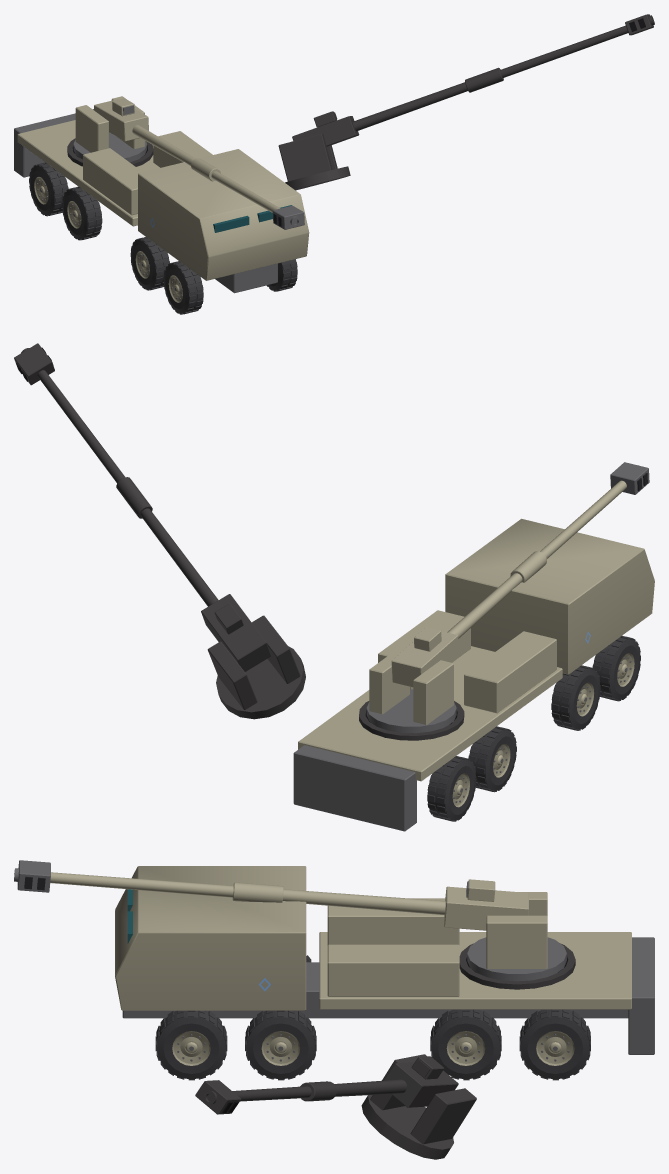
File: wheeledHowitzer__caesar_mkii.glb
3 renders of one model, top to bottom at view 1: azimuth 30°, elevation 25°; view 2: azimuth 150°, elevation 25°; view 3: azimuth 270°, elevation 25°, orthographic. The views are drawn at different scales.
Visible parts, largest first — view 1: Hull_Mesh, Wreck, Gun_Mesh, Turret_Mesh, Wheel_L1_Mesh, Wheel_L3_Mesh, Wheel_L0_Mesh, Wheel_L2_Mesh, Wheel_R3_Mesh; view 2: Hull_Mesh, Wreck, Gun_Mesh, Turret_Mesh, Wheel_L2_Mesh, Wheel_L0_Mesh, Wheel_L1_Mesh, Wheel_L3_Mesh; view 3: Hull_Mesh, Wreck, Gun_Mesh, Turret_Mesh, Wheel_R0_Mesh, Wheel_R3_Mesh, Wheel_R2_Mesh, Wheel_R1_Mesh.
Part boxes in pixels (x1,y1,x2,y2): Hull_Mesh: [14, 109, 309, 293]; Wreck: [67, 14, 654, 288]; Gun_Mesh: [94, 98, 304, 229]; Turret_Mesh: [73, 96, 146, 162]; Wheel_L1_Mesh: [62, 186, 102, 240]; Wheel_L3_Mesh: [163, 261, 203, 314]; Wheel_L0_Mesh: [29, 162, 68, 216]; Wheel_L2_Mesh: [130, 237, 169, 290]; Wheel_R3_Mesh: [266, 259, 297, 291]; Hull_Mesh: [293, 518, 654, 831]; Wreck: [14, 343, 630, 740]; Gun_Mesh: [391, 462, 649, 687]; Turret_Mesh: [366, 649, 456, 733]; Wheel_L2_Mesh: [551, 665, 600, 730]; Wheel_L0_Mesh: [427, 756, 476, 821]; Wheel_L1_Mesh: [468, 726, 516, 792]; Wheel_L3_Mesh: [592, 635, 640, 701]; Hull_Mesh: [115, 866, 654, 1054]; Wreck: [195, 943, 575, 1159]; Gun_Mesh: [14, 860, 528, 930]; Turret_Mesh: [467, 892, 566, 981]; Wheel_R0_Mesh: [519, 1009, 590, 1080]; Wheel_R3_Mesh: [155, 1010, 227, 1080]; Wheel_R2_Mesh: [245, 1010, 316, 1080]; Wheel_R1_Mesh: [430, 1009, 501, 1080].
Size of what is drawn, in the model's own units: 11.95 by 4.18 by 10.04.
